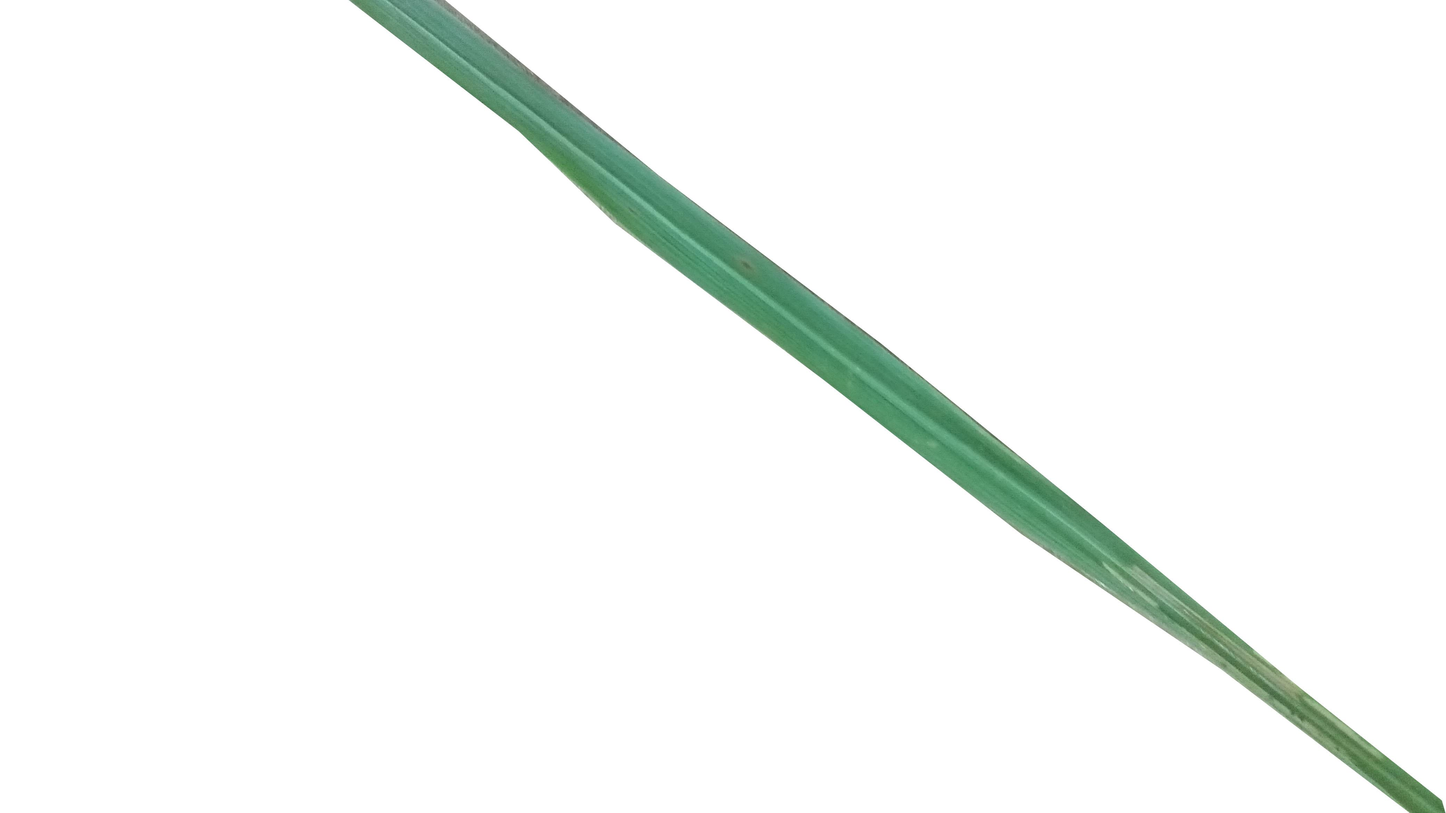Blight: (1089, 542, 1395, 788)
Brown spot: (730, 250, 761, 282)
